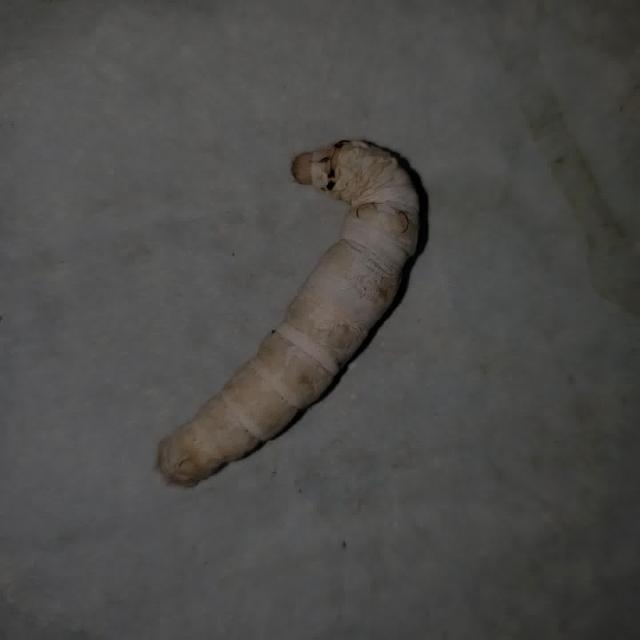Grasserie: (142, 106, 466, 534)
